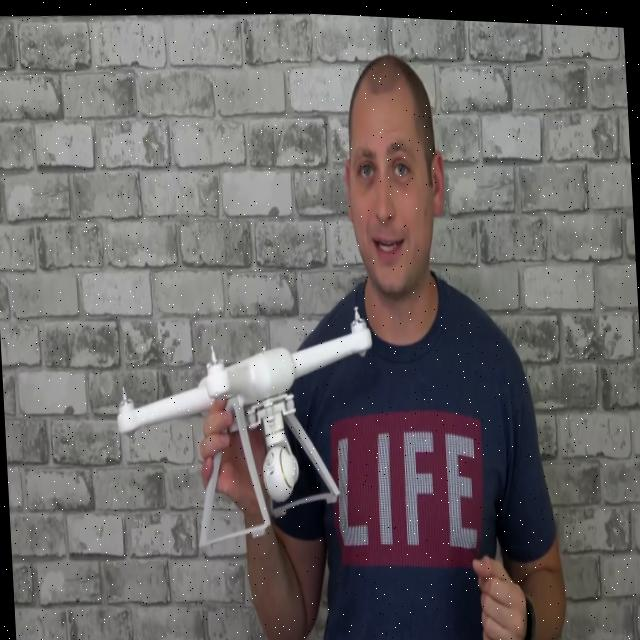drone: (109, 293, 388, 571)
